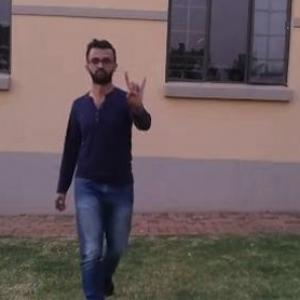takeoff-hand: (118, 66, 152, 116)
